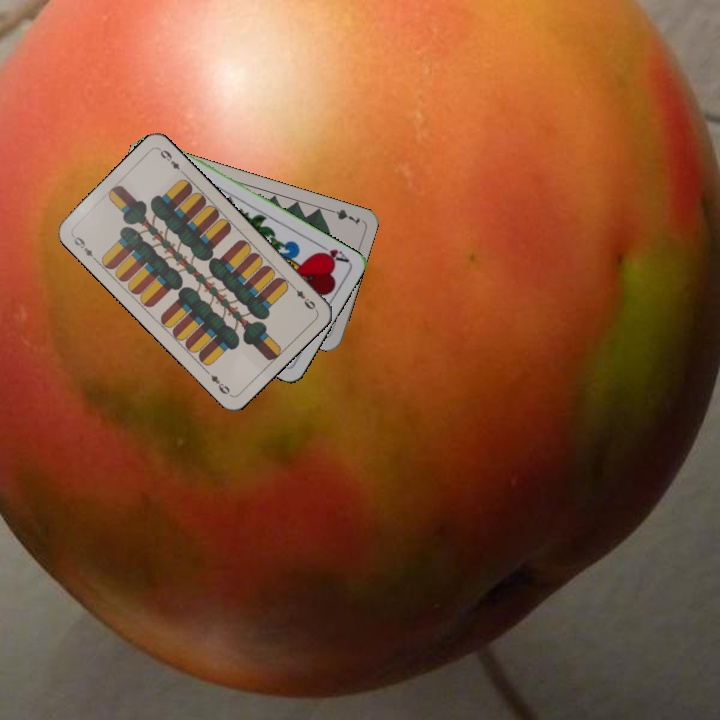E9: (68, 231, 100, 264), (287, 280, 318, 312)
G7: (323, 205, 363, 228)
HA: (312, 239, 351, 265)
